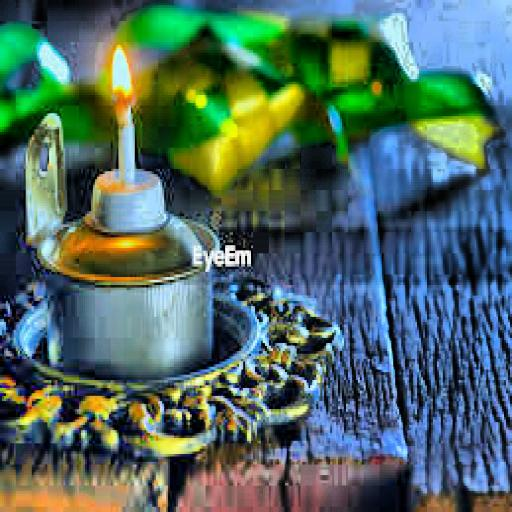fire: (103, 37, 134, 113)
